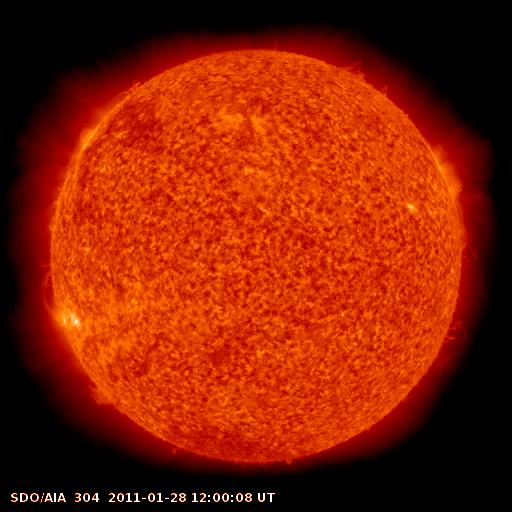prominence: (328, 46, 396, 105), (446, 201, 487, 268), (28, 261, 72, 323), (435, 304, 473, 356), (79, 373, 124, 415)
